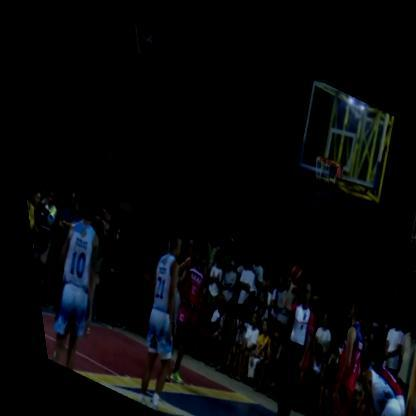basketball: (278, 248, 301, 279)
rim: (295, 134, 347, 204)
